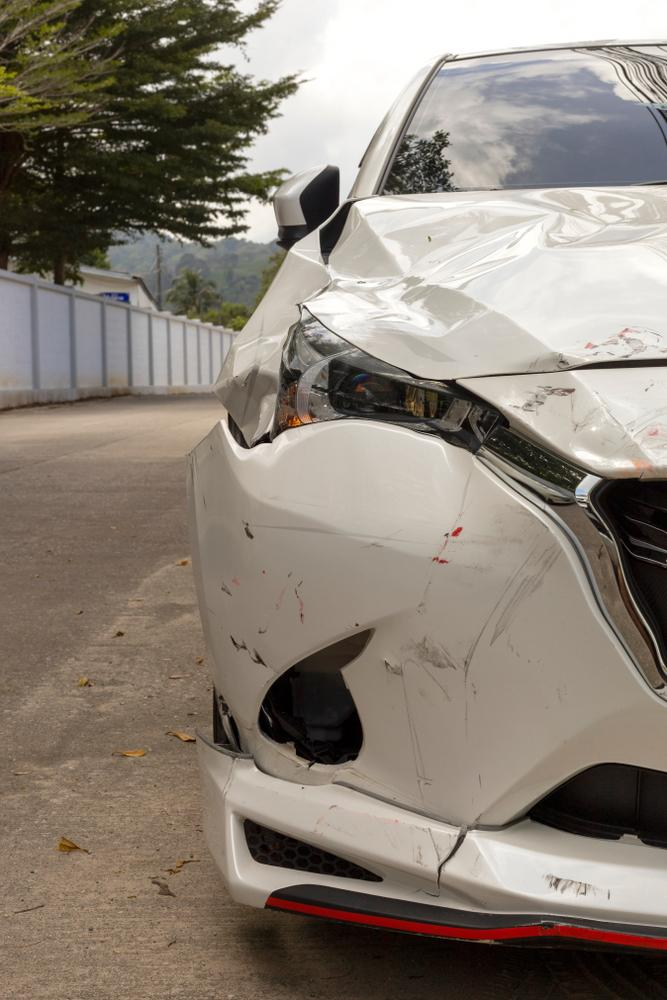crack: (410, 828, 469, 898)
dent: (306, 186, 667, 377), (213, 243, 332, 440), (493, 372, 667, 475)
scratch: (200, 496, 566, 693), (523, 324, 667, 372)
